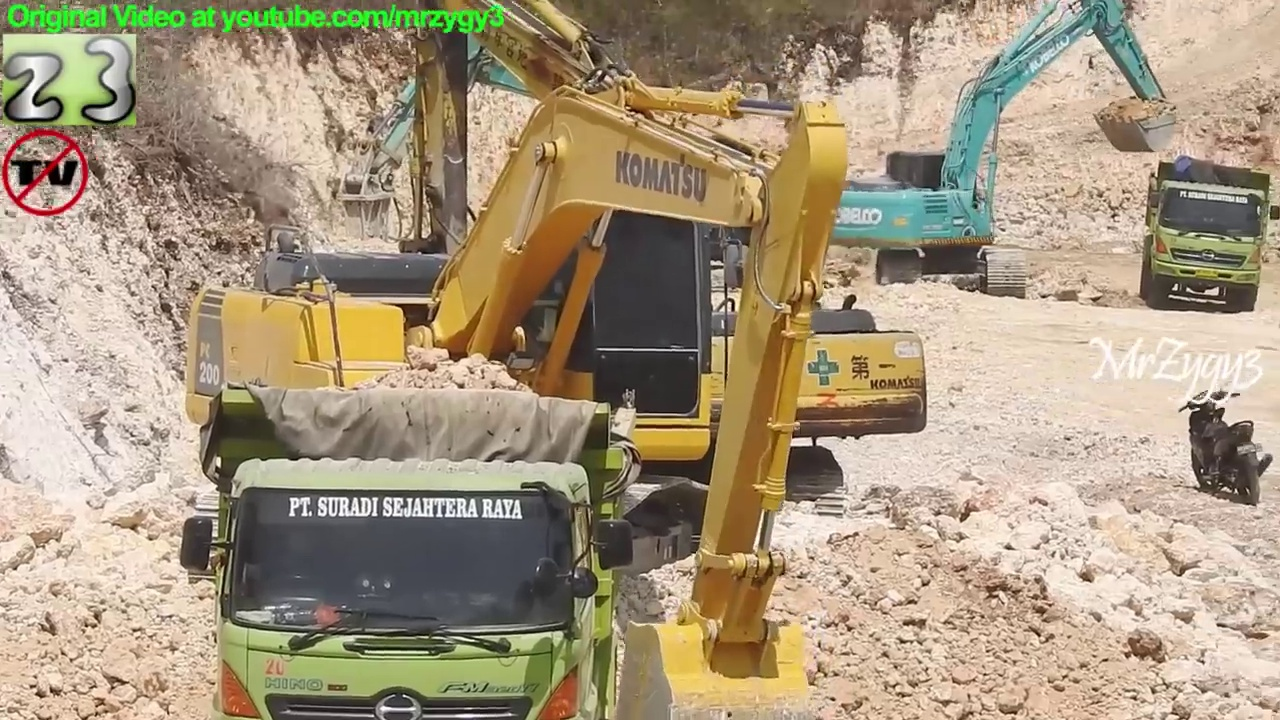excavator: (175, 61, 861, 720), (374, 1, 938, 534), (330, 19, 807, 300), (797, 1, 1182, 305)
truck: (174, 376, 646, 720), (1133, 154, 1280, 317)
